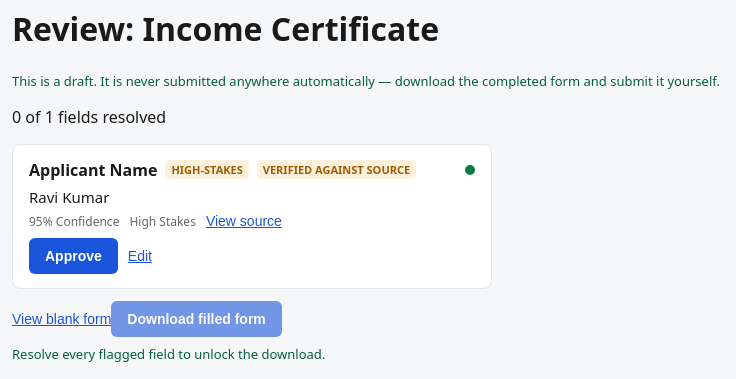
Test: Review page › approving the last outstanding field enables download
Expected: the text "Ravi Kumar" is shown, [29,187,109,207]
Click the button "Approve": (73, 256) [29,238,118,274]
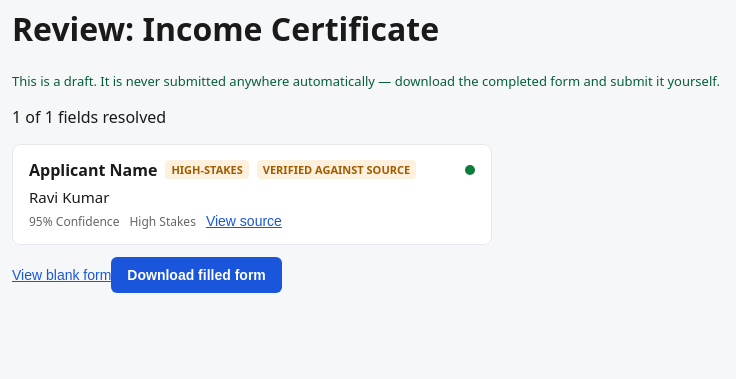
Result: the button "Download filled form" is enabled at [111,257,282,293]
